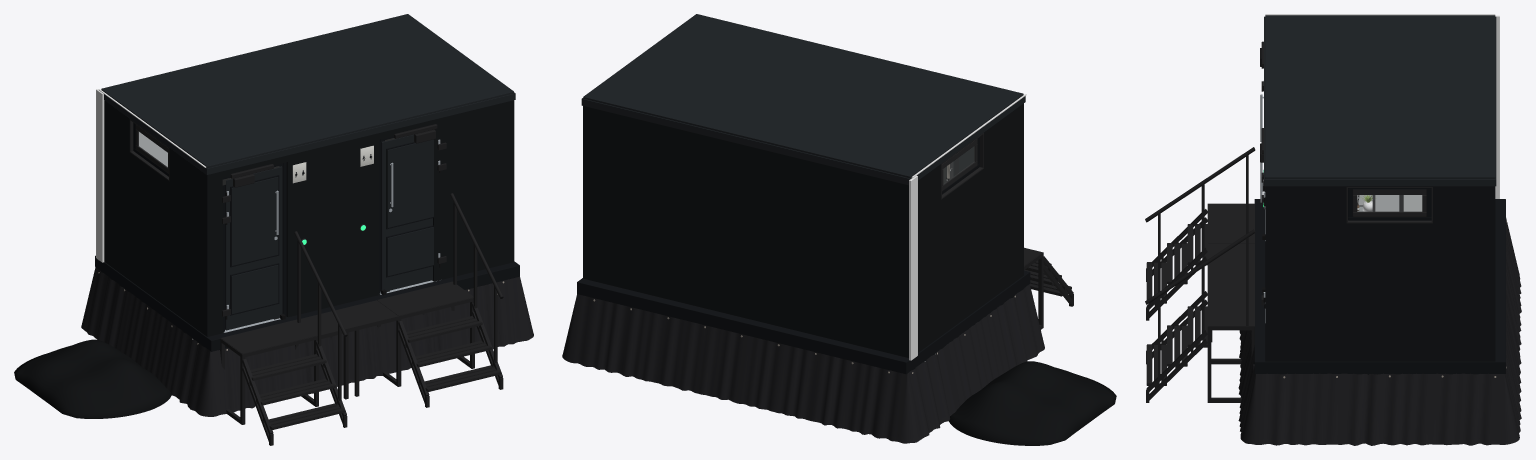
The model's file is SHOWER2_A-6bc3bb4fc0ab.glb.
The picture shows the model from 3 angles, left to right: view 1: azimuth 30°, elevation 25°; view 2: azimuth 150°, elevation 25°; view 3: azimuth 270°, elevation 25°; orthographic projection. The views are drawn at different scales.
Parts seen in each view (by area): view 1: RoofNoLED_Slab_1x1m, SHOWER2_Curtain_front, SHOWER2_Wall_front_03, SHOWER2_Wall_front_03_fill, SHOWER2_Drawbar_tarp, SHOWER2_Wall_end_L_00, SHOWER2_Wall_end_L_01, SHOWER2_Wall_end_L_03, DoorUnit_L_Inset_panel_001, DoorUnit_R_Inset_panel_001, SHOWER2_Wall_front_00, SHOWER2_Wall_front_06 (+13 smaller); view 2: SHOWER2_Wall_back_00, RoofNoLED_Slab_1x1m, SHOWER2_Curtain_front, SHOWER2_Drawbar_tarp, SHOWER2_Wall_end_L_00, SHOWER2_Wall_end_L_01, SHOWER2_Chassis_ledge_back, SHOWER2_Wall_end_L_03, SHOWER2_Cornice_back_A, SHOWER2_Chassis_rim_end_L, SHOWER2_Trim_corner_L_A, SHOWER2_Cornice_end_L_A (+1 smaller); view 3: RoofNoLED_Slab_1x1m, SHOWER2_Curtain_front, SHOWER2_Wall_end_R_00, SHOWER2_Wall_end_R_01, SHOWER2_Wall_end_R_03, SHOWER2_Chassis_rim_end_R, SHOWER2_Cornice_end_R_A, Stair_Landing_Plate.001, SHOWER2_Platform_fill, SHOWER2_Chassis_ledge_back, Stair_Landing_Plate, SHOWER2_Chassis_ledge_front (+12 smaller).
Part boxes in pixels (x1,y1,x2,y2): RoofNoLED_Slab_1x1m: (101,14,513,167); SHOWER2_Curtain_front: (81,267,533,416); SHOWER2_Wall_front_03: (286,126,378,317); SHOWER2_Wall_front_03_fill: (432,97,498,281); SHOWER2_Drawbar_tarp: (14,339,171,418); SHOWER2_Wall_end_L_00: (169,148,203,346); SHOWER2_Wall_end_L_01: (129,153,169,320); SHOWER2_Wall_end_L_03: (104,100,129,291); DoorUnit_L_Inset_panel_001: (231,177,278,265); DoorUnit_R_Inset_panel_001: (387,139,433,227); SHOWER2_Wall_front_00: (204,164,222,336); SHOWER2_Wall_front_06: (499,93,514,265); SHOWER2_Wall_back_00: (583,99,913,369); RoofNoLED_Slab_1x1m: (583,14,1023,178); SHOWER2_Curtain_front: (562,284,1044,443); SHOWER2_Drawbar_tarp: (949,361,1116,445); SHOWER2_Wall_end_L_00: (984,106,1020,316); SHOWER2_Wall_end_L_01: (941,169,983,348); SHOWER2_Chassis_ledge_back: (577,278,908,373); SHOWER2_Wall_end_L_03: (914,164,941,369); SHOWER2_Cornice_back_A: (581,98,910,185); SHOWER2_Chassis_rim_end_L: (905,272,1030,374); SHOWER2_Trim_corner_L_A: (909,175,917,360); SHOWER2_Cornice_end_L_A: (911,96,1024,180); RoofNoLED_Slab_1x1m: (1265,15,1495,178); SHOWER2_Curtain_front: (1238,218,1521,445); SHOWER2_Wall_end_R_00: (1272,186,1346,374); SHOWER2_Wall_end_R_01: (1346,223,1432,374); SHOWER2_Wall_end_R_03: (1433,186,1488,374); SHOWER2_Chassis_rim_end_R: (1254,361,1505,373); SHOWER2_Cornice_end_R_A: (1265,179,1495,186); Stair_Landing_Plate.001: (1208,286,1254,326); SHOWER2_Platform_fill: (1207,244,1254,285); SHOWER2_Chassis_ledge_back: (1495,199,1505,361); Stair_Landing_Plate: (1208,203,1254,243); SHOWER2_Chassis_ledge_front: (1254,199,1265,361).
Size of the model in its own units: 5.7 by 3 by 3.93.
84 materials, 12 textured.
